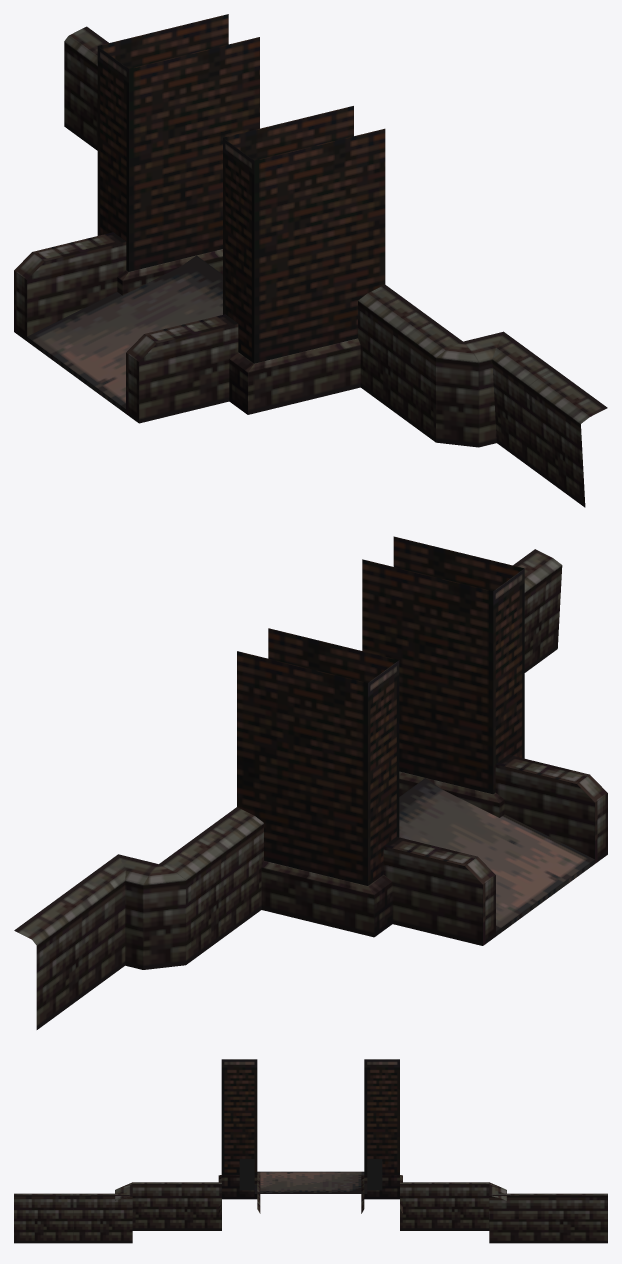
File: EnvBdgMD_Factory_C_Outdoor_Base.FBX
3 views of the same model, one above another, from view 1: azimuth 30°, elevation 25°; view 2: azimuth 150°, elevation 25°; view 3: azimuth 270°, elevation 25° (orthographic). The views are drawn at different scales.
Parts seen in each view (by area): view 1: EnvBdgMD_Factory_C_Outdoor_Base; view 2: EnvBdgMD_Factory_C_Outdoor_Base; view 3: EnvBdgMD_Factory_C_Outdoor_Base.
Boxes of the visible parts, left/top/right/bottom form: EnvBdgMD_Factory_C_Outdoor_Base: left=14, top=14, right=607, bottom=507; EnvBdgMD_Factory_C_Outdoor_Base: left=14, top=536, right=607, bottom=1029; EnvBdgMD_Factory_C_Outdoor_Base: left=14, top=1059, right=607, bottom=1243.
Bounding box in the file's own units: 300 × 265 × 1000.
